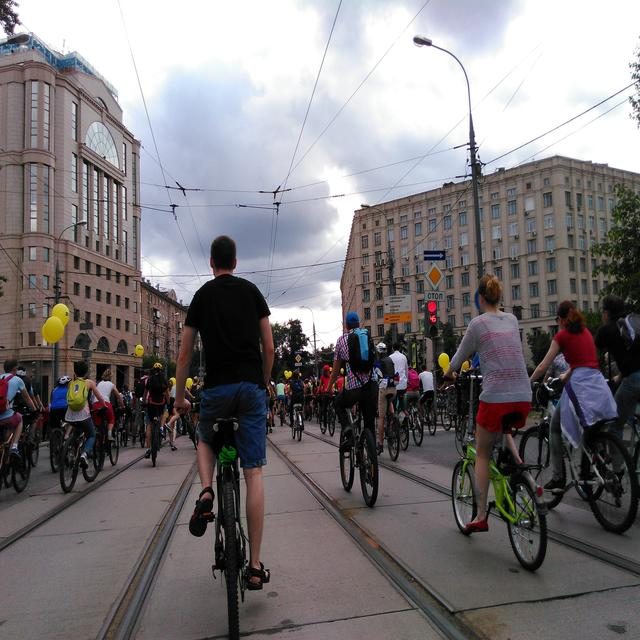Bicycle: (487, 378, 639, 571), (180, 411, 248, 639), (423, 368, 486, 535), (45, 407, 162, 492), (339, 392, 423, 506), (279, 394, 345, 445), (0, 425, 38, 492), (605, 377, 618, 396)
Vegetation: (578, 155, 639, 374), (270, 319, 334, 384), (133, 346, 204, 386), (527, 331, 552, 365), (0, 275, 8, 298)
